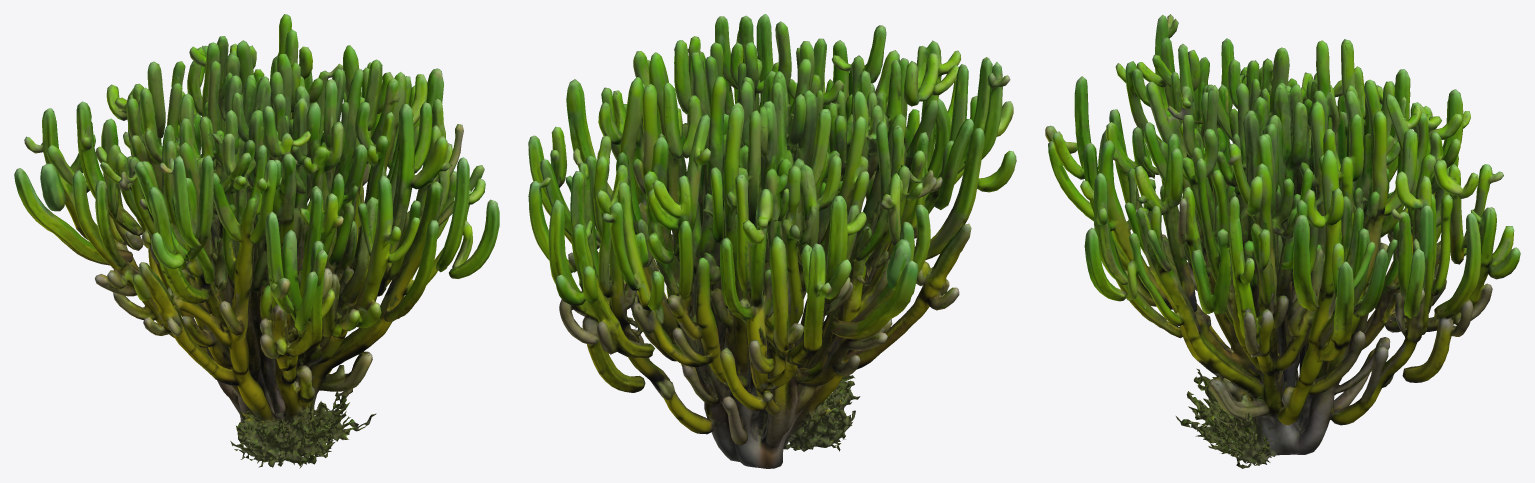
Rendered from modelo_myrtillocactus.glb.
The picture shows the model from 3 angles, left to right: view 1: azimuth 30°, elevation 25°; view 2: azimuth 150°, elevation 25°; view 3: azimuth 270°, elevation 25°; orthographic projection. The views are drawn at different scales.
Parts seen in each view (by area): view 1: Mesh1.0; view 2: Mesh1.0; view 3: Mesh1.0.
Part boxes in pixels (left/top/right/bottom): Mesh1.0: left=14, top=14, right=499, bottom=468; Mesh1.0: left=528, top=14, right=1016, bottom=468; Mesh1.0: left=1045, top=14, right=1520, bottom=468.
Bounding box in the file's own units: 1.87 × 1.73 × 2.01.
1 material, 1 textured.
